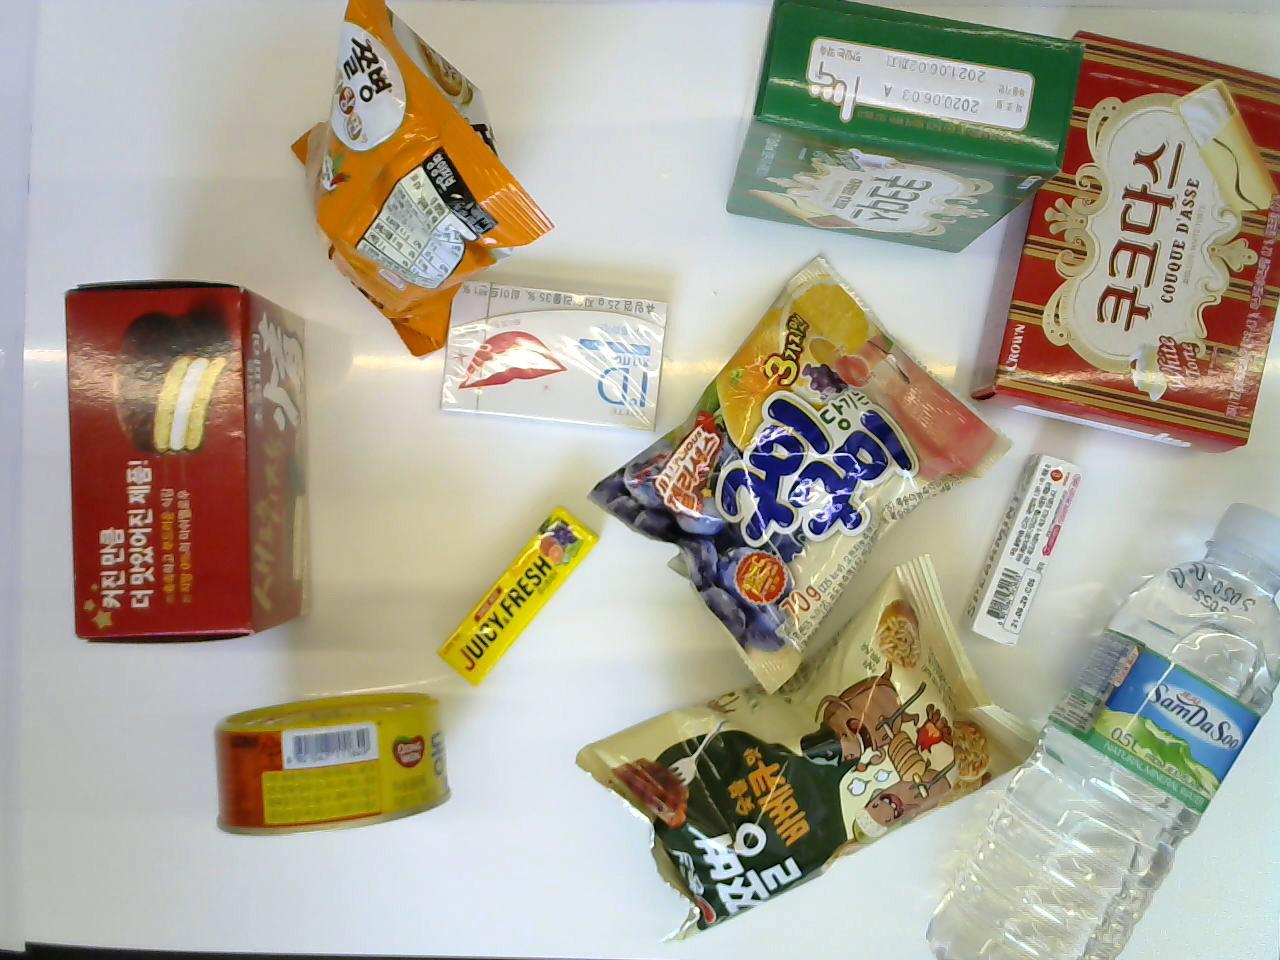ID_gum: (441, 279, 670, 434)
chocopie: (59, 280, 311, 650)
couque_coffee: (721, 0, 1079, 255)
couque_white: (969, 31, 1276, 460)
gumi_gumi: (584, 250, 1012, 693)
jjolbyung_noodle: (288, 0, 556, 358)
jjolbyung_ori: (570, 549, 1048, 949)
juicyfresh: (433, 506, 605, 686)
samdasu: (926, 497, 1280, 960)
spearmint: (958, 447, 1084, 651)
tuna: (212, 690, 452, 843)
